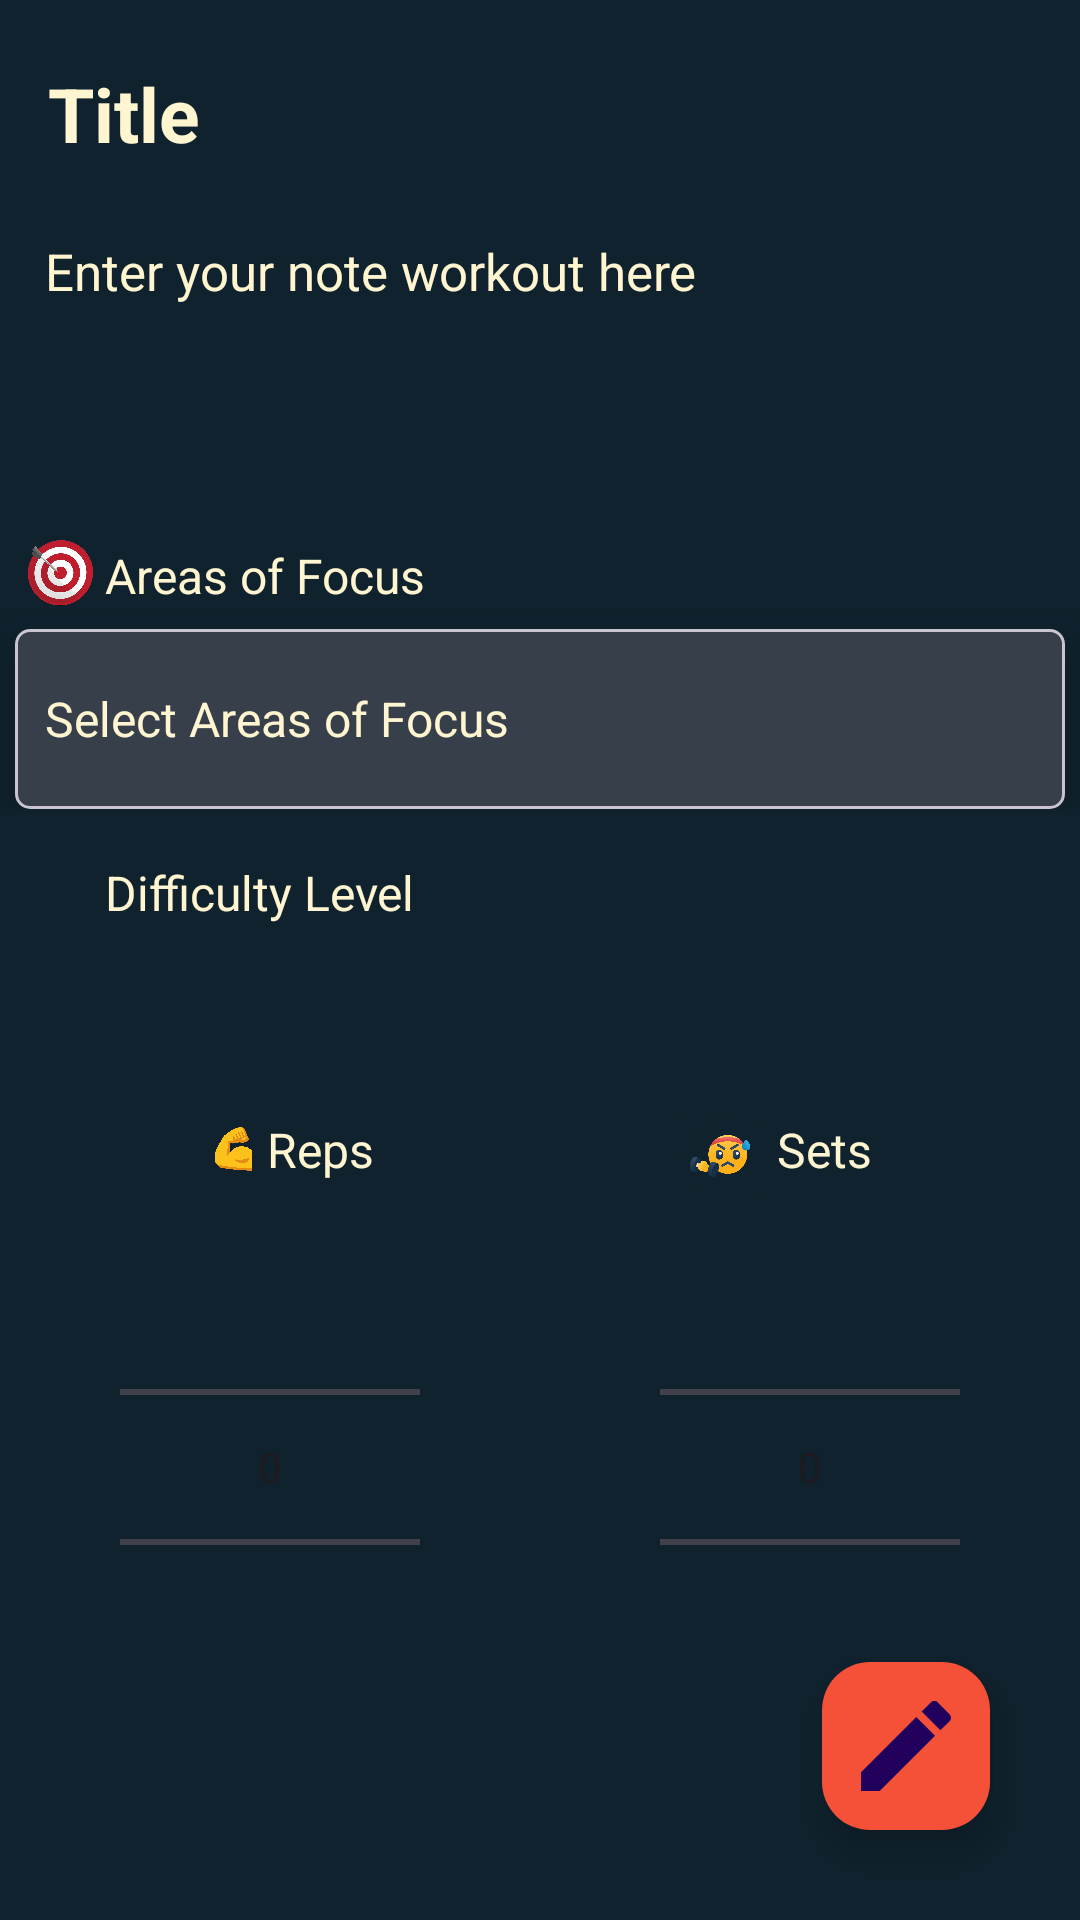

Icons on this 1080px x 1920px Android screen, each with its box as box=[x1, y1, x2, y2]:
dart: box=[28, 540, 93, 605]
edit: box=[822, 1662, 990, 1830]
flex: box=[215, 1127, 252, 1171]
workout: box=[690, 1135, 750, 1177]
